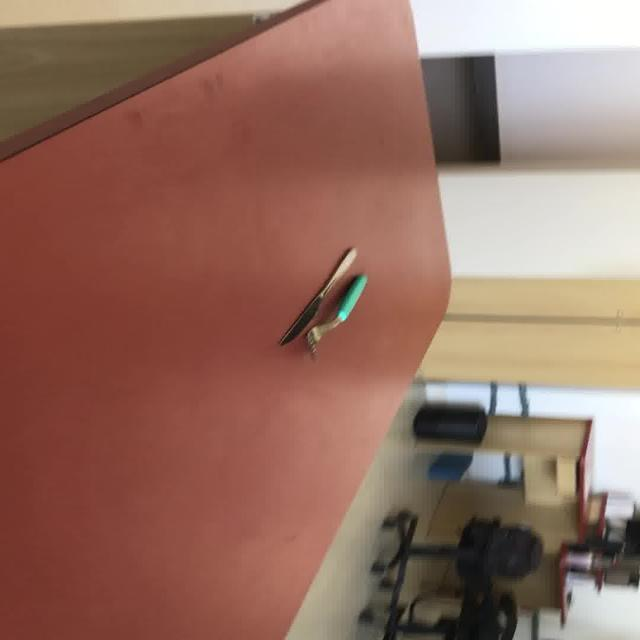knife fork: (276, 245, 357, 346)
